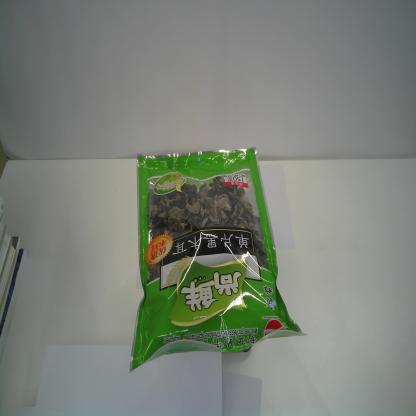Dried Food: (127, 145, 311, 378)
